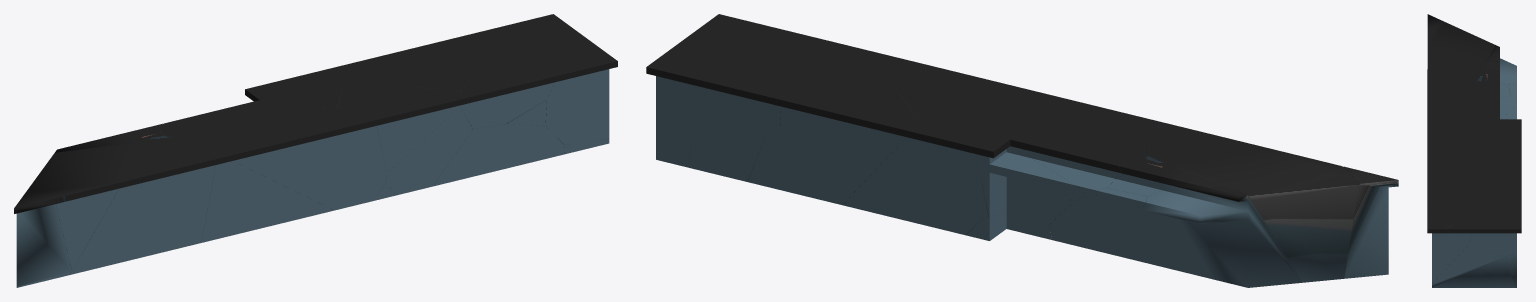
Rendered from HorizontalShelf_DEST.fbx.
The picture shows the model from 3 angles, left to right: view 1: azimuth 30°, elevation 25°; view 2: azimuth 150°, elevation 25°; view 3: azimuth 270°, elevation 25°; orthographic projection. The views are drawn at different scales.
Parts seen in each view (by area): view 1: polySurface310_cell.015, polySurface310_cell.004, polySurface310_cell.016, polySurface310_cell.005, polySurface310_cell.013, polySurface310_cell.014, polySurface310_cell.008, polySurface310_cell.007, polySurface310_cell.001, polySurface310_cell.002, polySurface310_cell.009, polySurface310_cell.025 (+4 smaller); view 2: polySurface310_cell.005, polySurface310_cell.016, polySurface310_cell.024, polySurface310_cell.008, polySurface310_cell.010, polySurface310_cell.025, polySurface310_cell.022, polySurface310_cell.018, polySurface310_cell.023, polySurface310_cell.015, polySurface310_cell.019, polySurface310_cell.002 (+10 smaller); view 3: polySurface310_cell.008, polySurface310_cell.003, polySurface310_cell.016, polySurface310_cell.005, polySurface310_cell.025, polySurface310_cell.015, polySurface310_cell.007, polySurface310_cell.020, polySurface310_cell.014, polySurface310_cell.004, polySurface310_cell.022, polySurface310_cell.024 (+8 smaller).
Boxes of the visible parts, x1=… form: polySurface310_cell.015: x1=201, y1=107, x2=386, y2=210; polySurface310_cell.004: x1=71, y1=137, x2=219, y2=274; polySurface310_cell.016: x1=333, y1=42, x2=473, y2=195; polySurface310_cell.005: x1=25, y1=142, x2=138, y2=270; polySurface310_cell.013: x1=201, y1=153, x2=334, y2=242; polySurface310_cell.014: x1=338, y1=79, x2=460, y2=173; polySurface310_cell.008: x1=438, y1=26, x2=569, y2=125; polySurface310_cell.007: x1=545, y1=51, x2=617, y2=144; polySurface310_cell.001: x1=432, y1=123, x2=564, y2=186; polySurface310_cell.002: x1=14, y1=194, x2=71, y2=287; polySurface310_cell.009: x1=459, y1=69, x2=562, y2=129; polySurface310_cell.025: x1=160, y1=101, x2=319, y2=144; polySurface310_cell.005: x1=1176, y1=149, x2=1358, y2=282; polySurface310_cell.016: x1=776, y1=61, x2=915, y2=205; polySurface310_cell.024: x1=1142, y1=165, x2=1302, y2=287; polySurface310_cell.008: x1=704, y1=36, x2=851, y2=127; polySurface310_cell.010: x1=1049, y1=156, x2=1212, y2=279; polySurface310_cell.025: x1=994, y1=110, x2=1147, y2=202; polySurface310_cell.022: x1=893, y1=103, x2=994, y2=217; polySurface310_cell.018: x1=971, y1=127, x2=1086, y2=224; polySurface310_cell.023: x1=843, y1=147, x2=982, y2=235; polySurface310_cell.015: x1=982, y1=79, x2=1159, y2=138; polySurface310_cell.019: x1=688, y1=107, x2=768, y2=181; polySurface310_cell.002: x1=1344, y1=166, x2=1398, y2=278; polySurface310_cell.008: x1=1439, y1=181, x2=1521, y2=222; polySurface310_cell.003: x1=1432, y1=244, x2=1515, y2=287; polySurface310_cell.016: x1=1439, y1=149, x2=1521, y2=187; polySurface310_cell.005: x1=1427, y1=22, x2=1495, y2=71; polySurface310_cell.025: x1=1455, y1=80, x2=1516, y2=132; polySurface310_cell.015: x1=1427, y1=87, x2=1466, y2=144; polySurface310_cell.007: x1=1427, y1=209, x2=1469, y2=283; polySurface310_cell.020: x1=1469, y1=211, x2=1521, y2=256; polySurface310_cell.014: x1=1427, y1=137, x2=1499, y2=175; polySurface310_cell.004: x1=1427, y1=53, x2=1485, y2=87; polySurface310_cell.022: x1=1461, y1=126, x2=1521, y2=150; polySurface310_cell.024: x1=1481, y1=45, x2=1516, y2=84.
Bounding box in the file's own units: 16.44 × 2.16 × 3.04.
